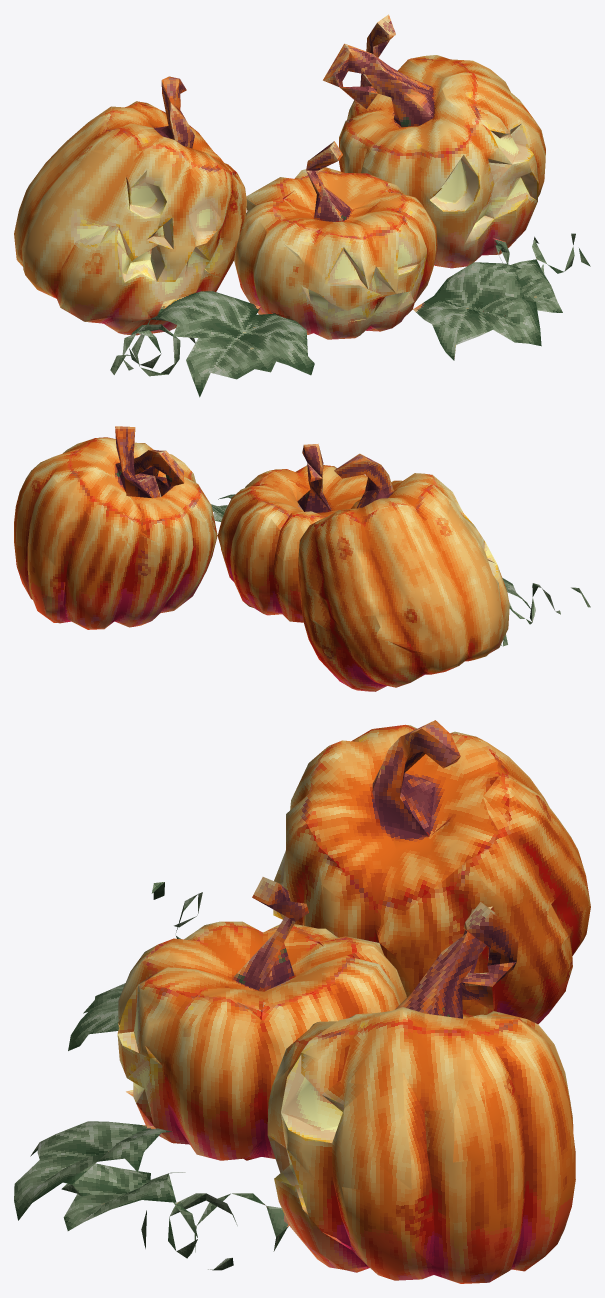
The model's file is pumpkin_trio.glb.
The picture shows the model from 3 angles, top to bottom: view 1: azimuth 30°, elevation 25°; view 2: azimuth 150°, elevation 25°; view 3: azimuth 270°, elevation 25°; orthographic projection. The views are drawn at different scales.
Visible parts, largest first — view 1: mesh; view 2: mesh; view 3: mesh.
Part boxes in pixels (box(x1,y1,x2,y2)): mesh: box(14, 14, 590, 397); mesh: box(14, 426, 590, 691); mesh: box(14, 720, 590, 1283).
Bounding box in the file's own units: 1.02 × 0.45 × 0.6809.
Materials: 1 (1 with a texture image).
